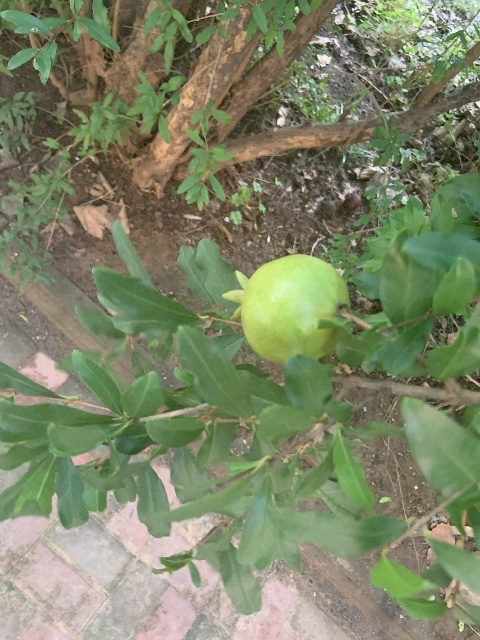mid-growth: (221, 254, 350, 365)
